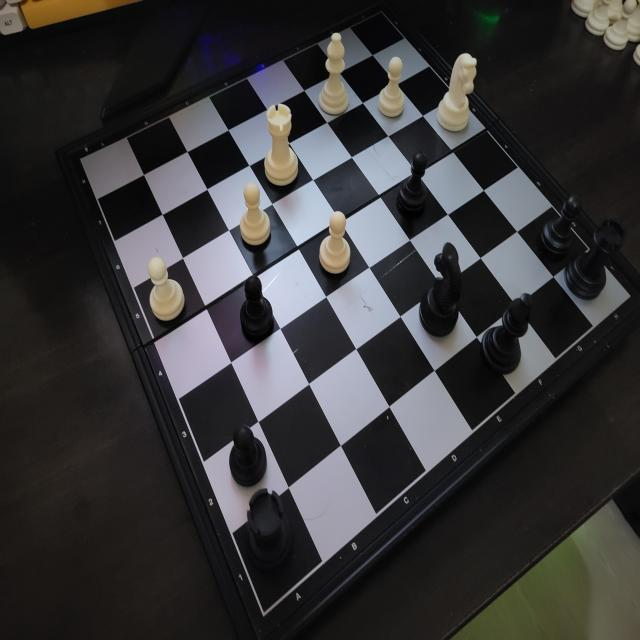black-bishop: (477, 290, 536, 375)
black-knight: (416, 242, 466, 342)
black-pawn: (536, 192, 584, 262), (226, 422, 268, 489), (394, 149, 432, 221), (239, 274, 274, 340)
black-rook: (573, 214, 627, 300), (242, 488, 292, 576)
chess-board: (69, 4, 636, 625)
white-bishop: (318, 31, 351, 118)
white-knight: (436, 50, 479, 133)
white-pawn: (145, 253, 186, 326), (317, 209, 351, 276), (238, 182, 272, 248), (377, 55, 405, 120)
white-rook: (263, 102, 299, 188)
